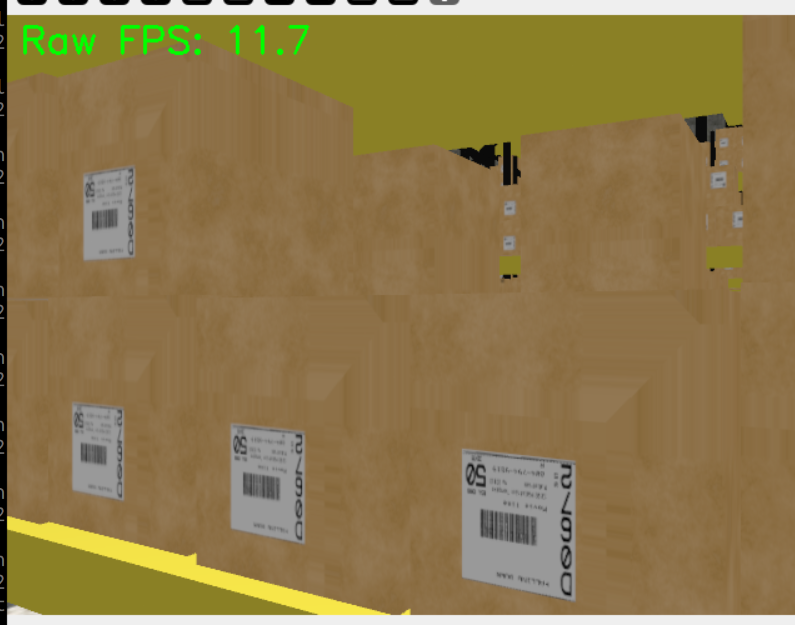barcode: (460, 447, 579, 603), (229, 422, 306, 544), (71, 401, 127, 501), (82, 167, 137, 262), (502, 234, 517, 252), (503, 199, 516, 216)
